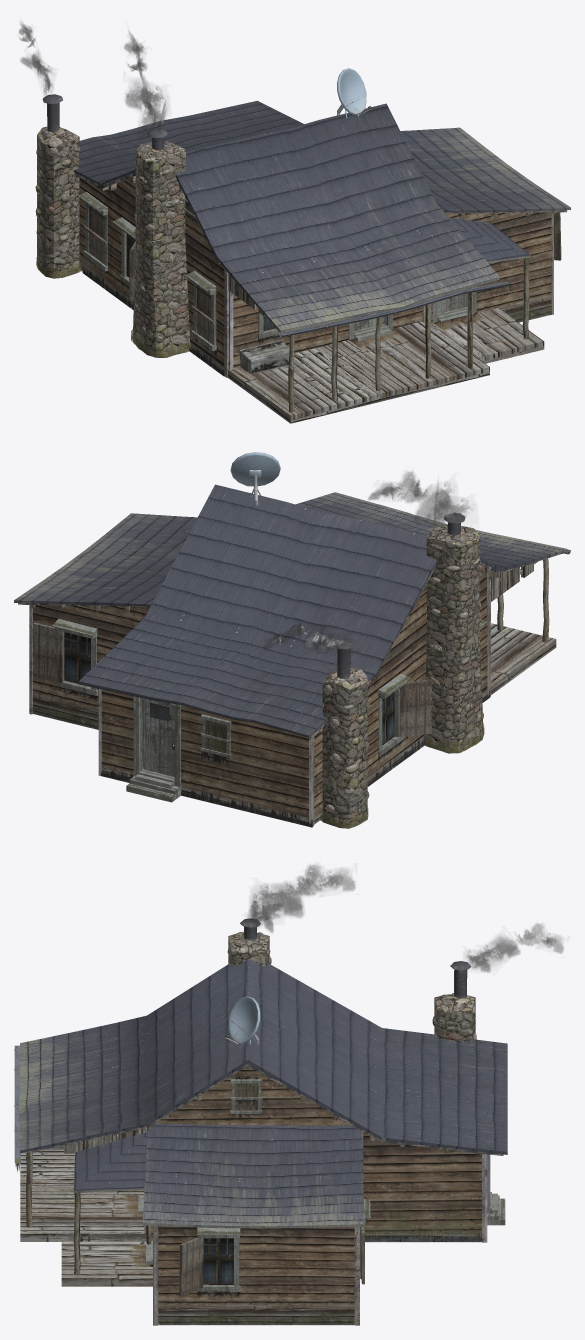
The picture shows the model from 3 angles, top to bottom: view 1: azimuth 30°, elevation 25°; view 2: azimuth 150°, elevation 25°; view 3: azimuth 270°, elevation 25°; orthographic projection. The views are drawn at different scales.
Visible parts, largest first — view 1: Cabin8; view 2: Cabin8; view 3: Cabin8.
Part boxes in pixels (box(x1,y1,x2,y2)): Cabin8: box(19, 21, 570, 423); Cabin8: box(14, 452, 570, 828); Cabin8: box(14, 865, 563, 1325).
Bounding box in the file's own units: 11.62 × 8.58 × 14.24.
Materials: 16 (15 with a texture image).
